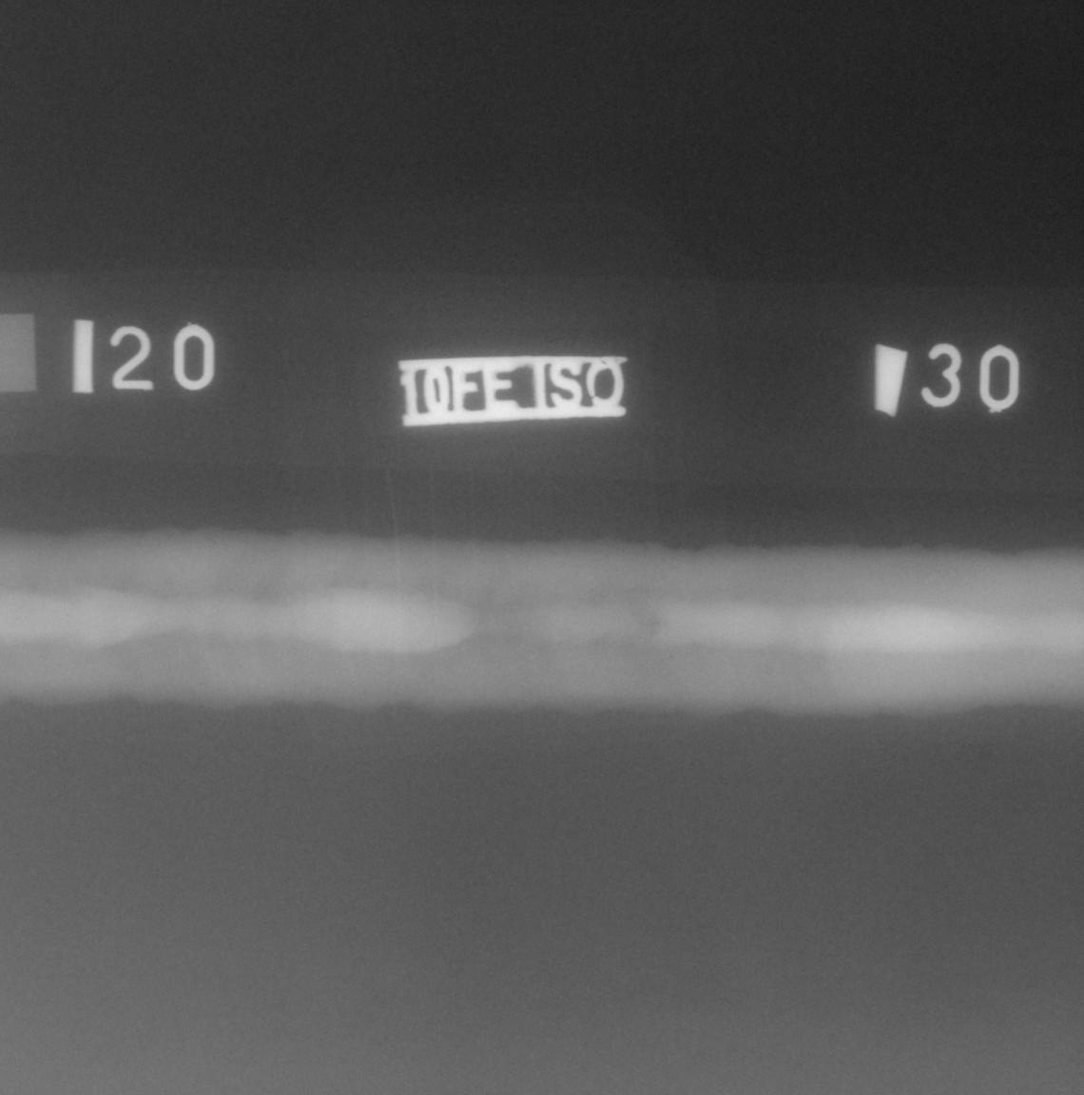Inclusion: (650, 621, 659, 626)
Pore/Porosity: (670, 655, 673, 658)
